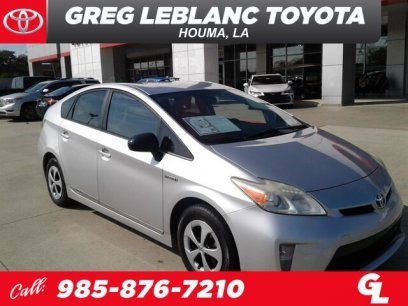Toyota Prius: (36, 78, 407, 269)
